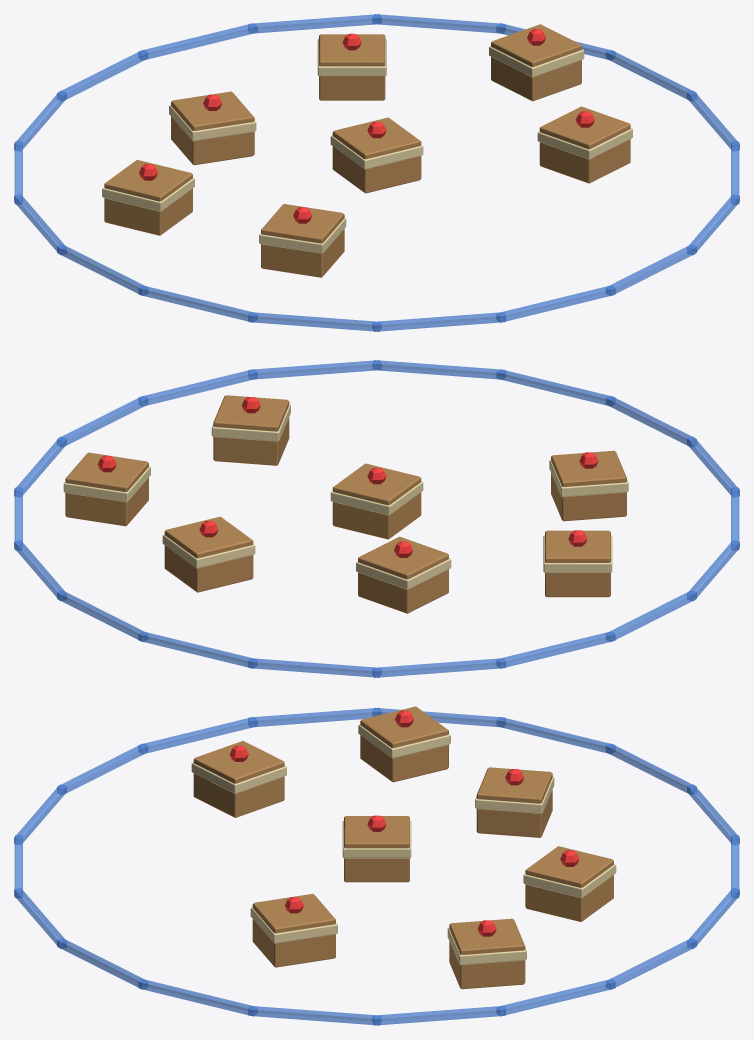
Rendered from parcel_drop.glb.
3 views of the same model, one above another, from view 1: azimuth 30°, elevation 25°; view 2: azimuth 150°, elevation 25°; view 3: azimuth 270°, elevation 25° (orthographic).
Visible parts, largest first — view 1: parcel_1, parcel_5, parcel_0, parcel_6, parcel_2, parcel_4, parcel_3, drop_zone_5, drop_zone_6, drop_zone_14, drop_zone_15, drop_zone_7 (+20 smaller); view 2: parcel_4, parcel_3, parcel_0, parcel_5, parcel_1, parcel_2, parcel_6, drop_zone_11, drop_zone_12, drop_zone_2, drop_zone_3, drop_zone_10 (+20 smaller); view 3: parcel_2, parcel_6, parcel_3, parcel_1, parcel_4, parcel_5, parcel_0, drop_zone_0, drop_zone_17, drop_zone_8, drop_zone_1, drop_zone_16 (+20 smaller).
Part boxes in pixels (x1=…): parcel_1: x1=539, y1=106, x2=630, y2=183; parcel_5: x1=491, y1=24, x2=581, y2=101; parcel_0: x1=332, y1=117, x2=421, y2=193; parcel_6: x1=104, y1=160, x2=192, y2=235; parcel_2: x1=261, y1=204, x2=344, y2=277; parcel_4: x1=171, y1=91, x2=254, y2=165; parcel_3: x1=319, y1=34, x2=385, y2=100; drop_zone_5: x1=372, y1=312, x2=505, y2=331; drop_zone_6: x1=248, y1=312, x2=381, y2=331; drop_zone_14: x1=248, y1=14, x2=381, y2=33; drop_zone_15: x1=372, y1=14, x2=505, y2=33; drop_zone_7: x1=138, y1=285, x2=257, y2=322; parcel_4: x1=358, y1=536, x2=448, y2=613; parcel_3: x1=164, y1=516, x2=253, y2=592; parcel_0: x1=332, y1=463, x2=421, y2=539; parcel_5: x1=65, y1=452, x2=148, y2=526; parcel_1: x1=213, y1=395, x2=289, y2=465; parcel_2: x1=551, y1=450, x2=626, y2=521; parcel_6: x1=545, y1=530, x2=610, y2=597; drop_zone_11: x1=372, y1=658, x2=505, y2=677; drop_zone_12: x1=248, y1=658, x2=381, y2=677; drop_zone_2: x1=248, y1=360, x2=381, y2=379; drop_zone_3: x1=372, y1=360, x2=505, y2=379; drop_zone_10: x1=496, y1=631, x2=615, y2=668; parcel_2: x1=193, y1=741, x2=284, y2=817; parcel_6: x1=360, y1=706, x2=448, y2=782; parcel_3: x1=525, y1=846, x2=613, y2=921; parcel_1: x1=252, y1=893, x2=335, y2=967; parcel_4: x1=476, y1=767, x2=552, y2=837; parcel_5: x1=449, y1=918, x2=525, y2=989; parcel_0: x1=344, y1=816, x2=409, y2=882; drop_zone_0: x1=248, y1=1006, x2=381, y2=1025; drop_zone_17: x1=372, y1=1006, x2=505, y2=1025; drop_zone_8: x1=248, y1=707, x2=381, y2=727; drop_zone_1: x1=138, y1=979, x2=257, y2=1016; drop_zone_16: x1=496, y1=979, x2=615, y2=1016.
Bounding box in the file's own units: 2.67 × 0.22 × 2.64.
